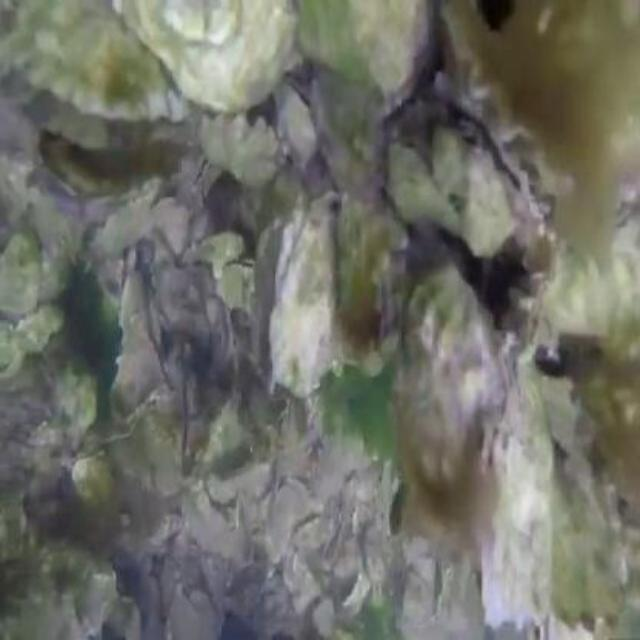Oyster-Closed: (114, 0, 304, 113), (405, 269, 496, 486), (481, 344, 551, 618), (299, 0, 429, 115), (536, 207, 640, 344)
Oyster-Open: (429, 0, 640, 205), (0, 0, 191, 152), (248, 186, 342, 391), (0, 551, 110, 640)
